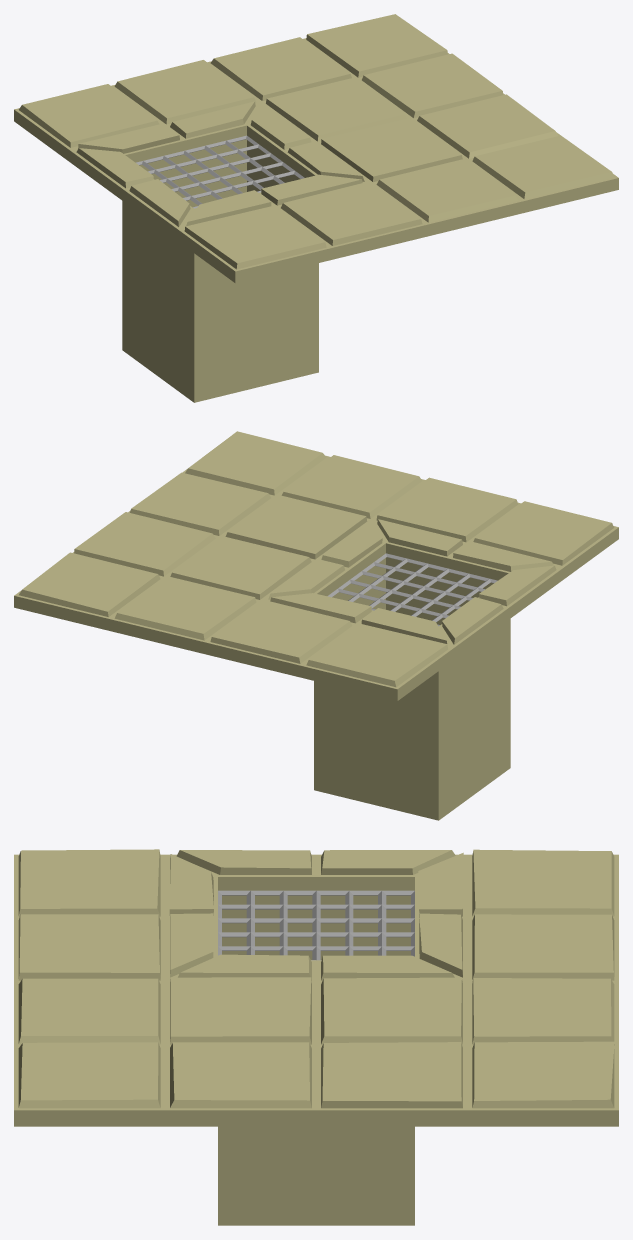
File: FloorTileE.fbx
The picture shows the model from 3 angles, top to bottom: view 1: azimuth 30°, elevation 25°; view 2: azimuth 150°, elevation 25°; view 3: azimuth 270°, elevation 25°; orthographic projection. The views are drawn at different scales.
Parts seen in each view (by area): view 1: FloorTileE, Grate; view 2: FloorTileE, Grate; view 3: FloorTileE, Grate.
Boxes of the visible parts, box(x1,y1,x2,y2) form: FloorTileE: box(14, 14, 618, 402); Grate: box(136, 135, 304, 208); FloorTileE: box(14, 431, 618, 820); Grate: box(327, 553, 497, 626); FloorTileE: box(14, 849, 618, 1225); Grate: box(218, 890, 414, 960).
Size of the model in its own units: 100 by 49.71 by 100.
